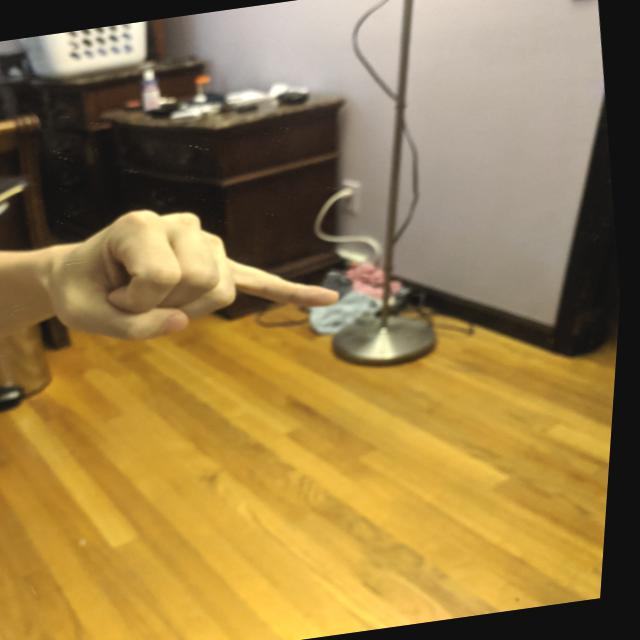J: (37, 175, 362, 364)
